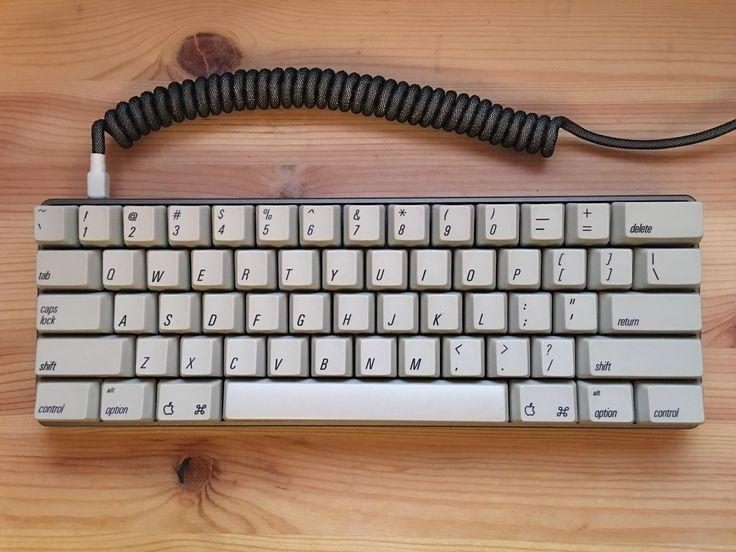keyboard: (32, 193, 705, 428)
